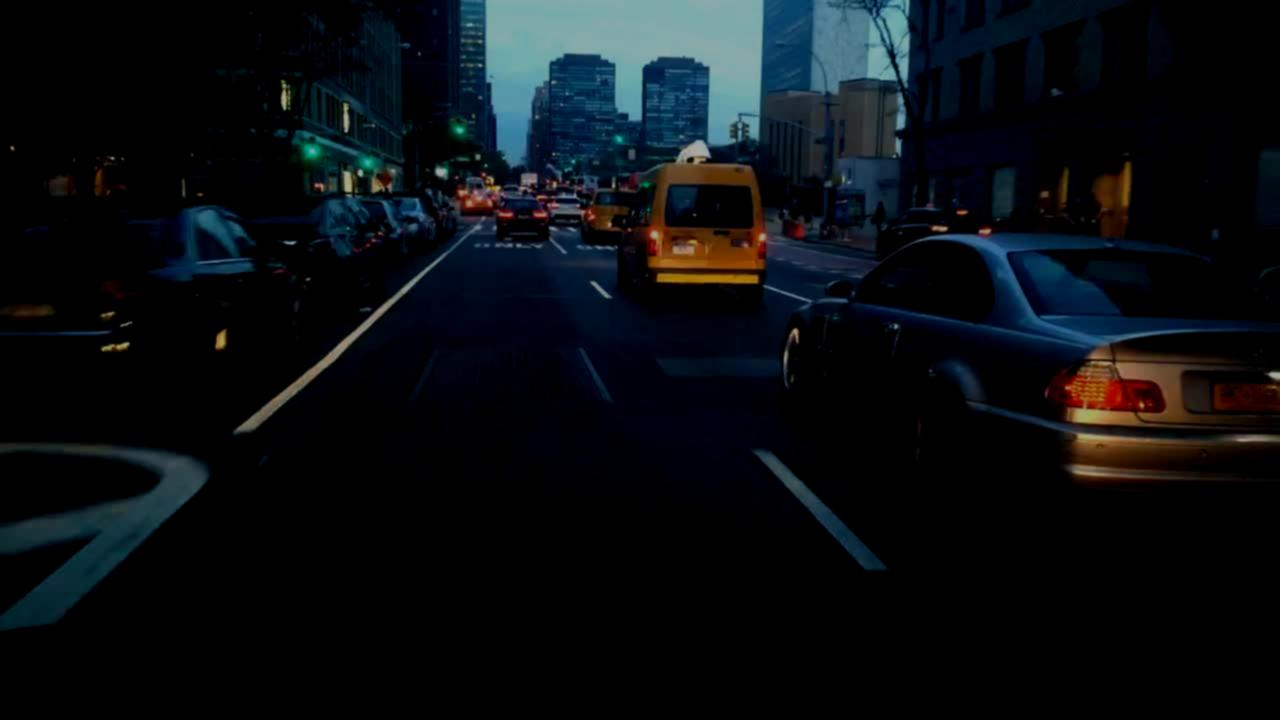bmw: (1247, 340, 1269, 366)
